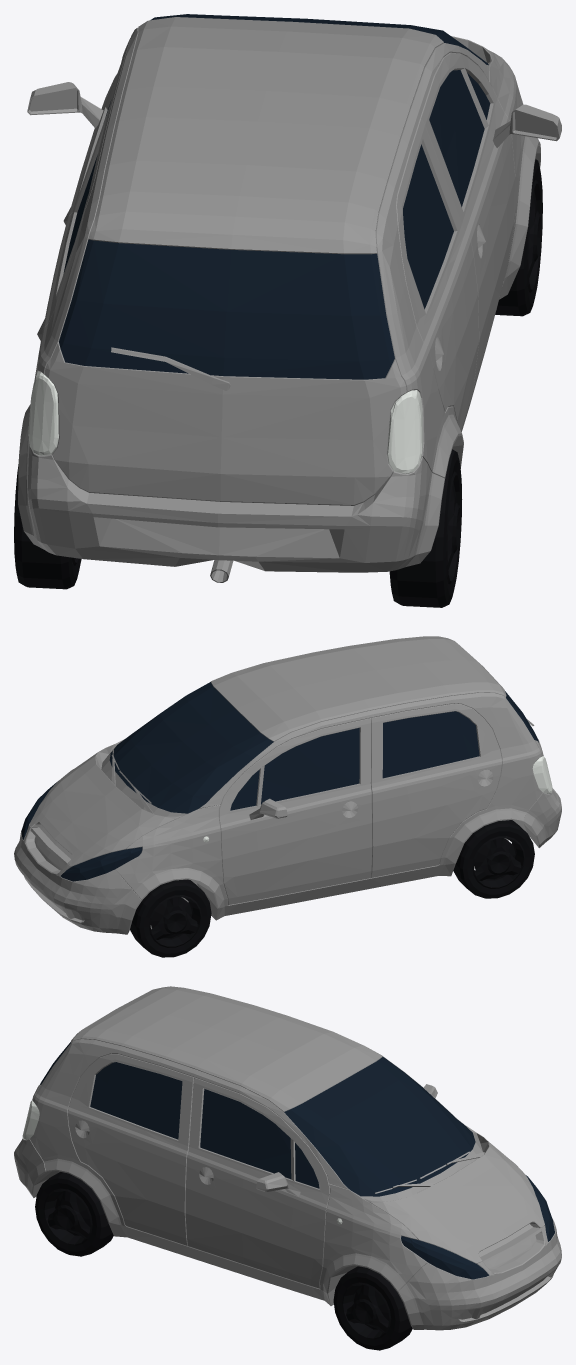
File: compact.obj
The picture shows the model from 3 angles, top to bottom: view 1: azimuth 30°, elevation 25°; view 2: azimuth 150°, elevation 25°; view 3: azimuth 270°, elevation 25°; orthographic projection. The views are drawn at different scales.
Parts seen in each view (by area): view 1: compact-body, wheel_c003; view 2: compact-body, wheel_c003; view 3: compact-body, wheel_c003.
Part boxes in pixels (x1=…): compact-body: x1=18, y1=14, x2=561, y2=582; wheel_c003: x1=14, y1=159, x2=542, y2=607; compact-body: x1=14, y1=636, x2=561, y2=934; wheel_c003: x1=130, y1=820, x2=534, y2=957; compact-body: x1=14, y1=986, x2=561, y2=1330; wheel_c003: x1=35, y1=1172, x2=412, y2=1350.
Bounding box in the file's own units: 3.55 × 1.76 × 4.1.
